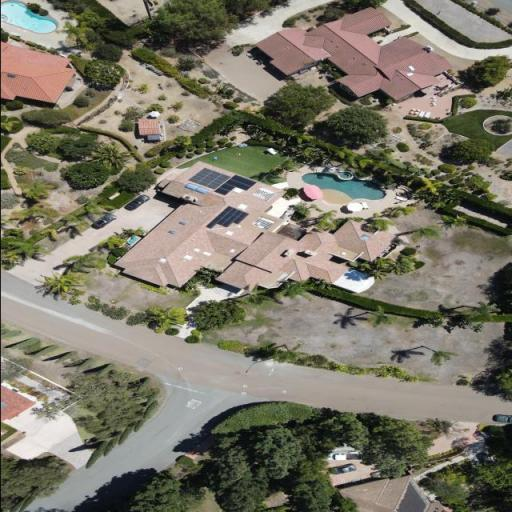solar-panel: (204, 206, 249, 229), (395, 482, 426, 512), (187, 168, 231, 189), (213, 174, 256, 195), (0, 402, 7, 409)
